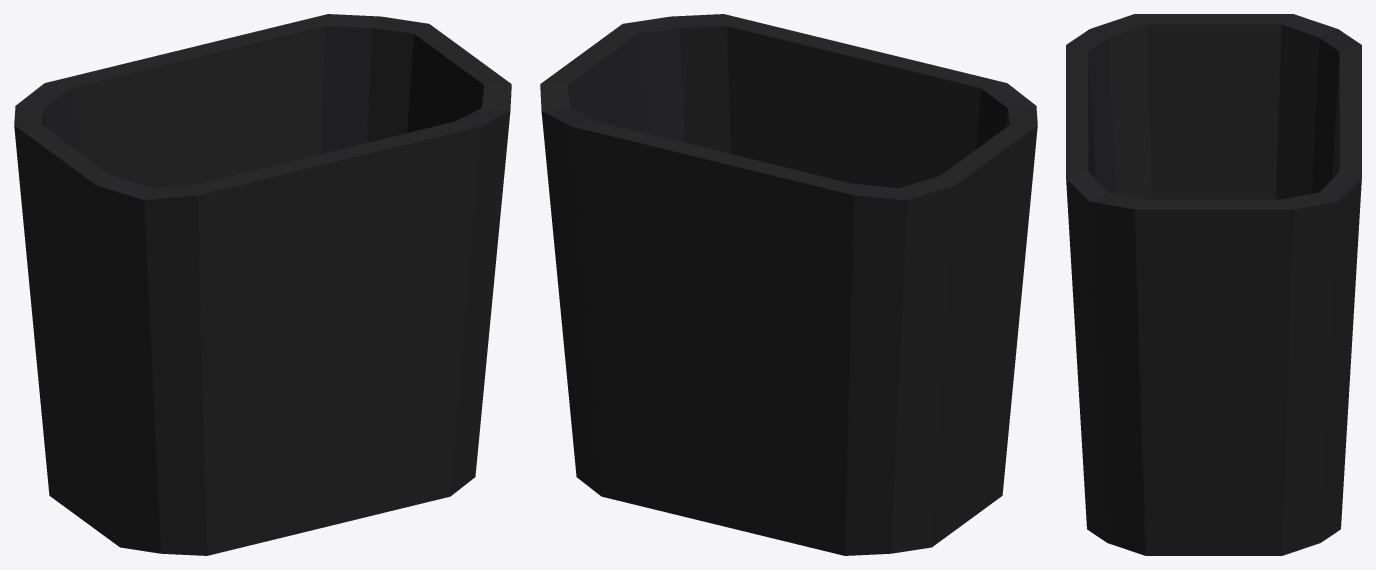
Rendered from trash_can.glb.
3 renders of one model, left to right at view 1: azimuth 30°, elevation 25°; view 2: azimuth 150°, elevation 25°; view 3: azimuth 270°, elevation 25°, orthographic. The views are drawn at different scales.
Parts seen in each view (by area): view 1: Trashcan.008; view 2: Trashcan.008; view 3: Trashcan.008.
Part boxes in pixels (left/top/right/bottom): Trashcan.008: left=14, top=14, right=511, bottom=555; Trashcan.008: left=540, top=14, right=1037, bottom=555; Trashcan.008: left=1066, top=14, right=1361, bottom=555.
Size of the model in its own units: 0.4421 by 0.3856 by 0.2827.
Materials: 1 (1 with a texture image).
